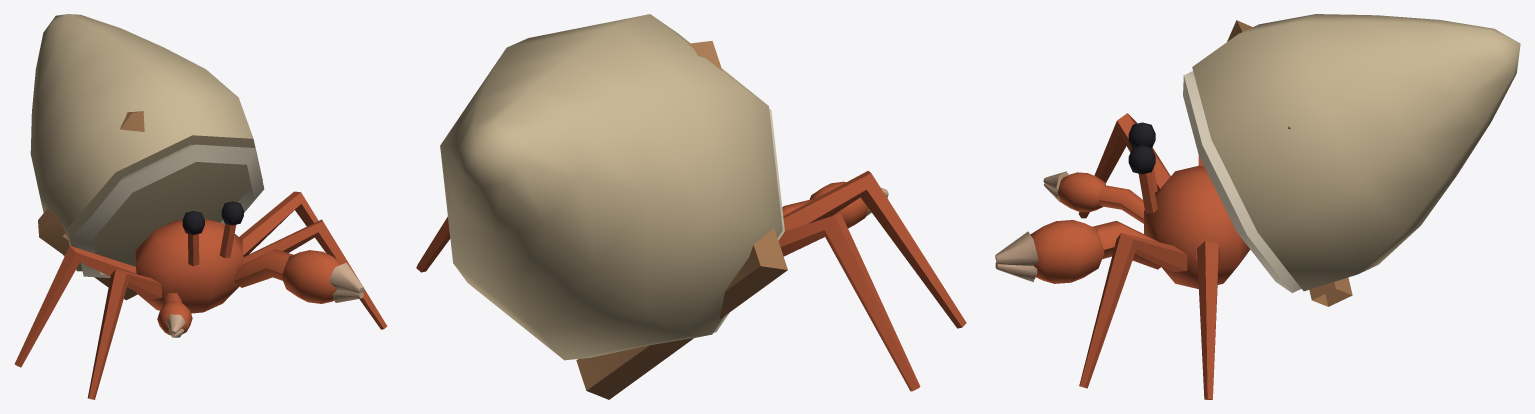
Rendered from crab-hermit.glb.
The picture shows the model from 3 angles, left to right: view 1: azimuth 30°, elevation 25°; view 2: azimuth 150°, elevation 25°; view 3: azimuth 270°, elevation 25°; orthographic projection. The views are drawn at different scales.
Parts seen in each view (by area): view 1: crab-hermit; view 2: crab-hermit; view 3: crab-hermit.
Boxes of the visible parts, left/top/right/bottom form: crab-hermit: left=14, top=14, right=387, bottom=399; crab-hermit: left=416, top=14, right=966, bottom=399; crab-hermit: left=995, top=14, right=1520, bottom=399.
Bounding box in the file's own units: 0.244 × 0.1657 × 0.2711.
